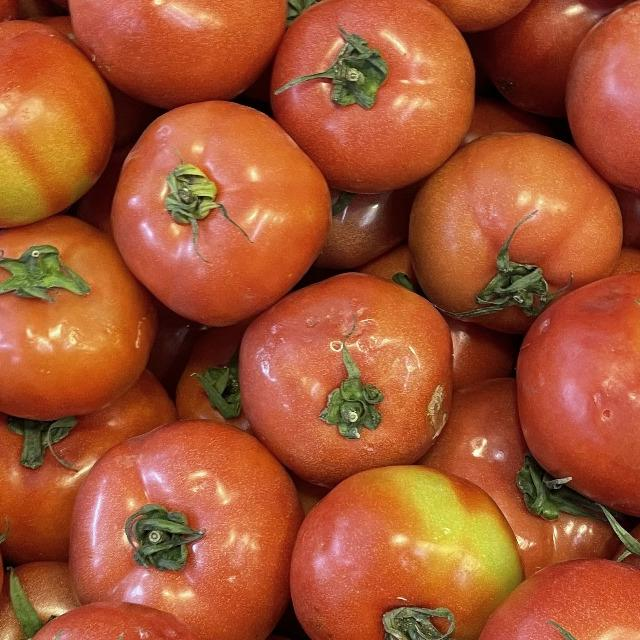tomato: (235, 232, 475, 482), (387, 107, 640, 317), (262, 0, 480, 195), (502, 235, 640, 510), (0, 215, 160, 420), (0, 0, 132, 232), (50, 0, 292, 105), (542, 0, 640, 205), (0, 575, 237, 640)
